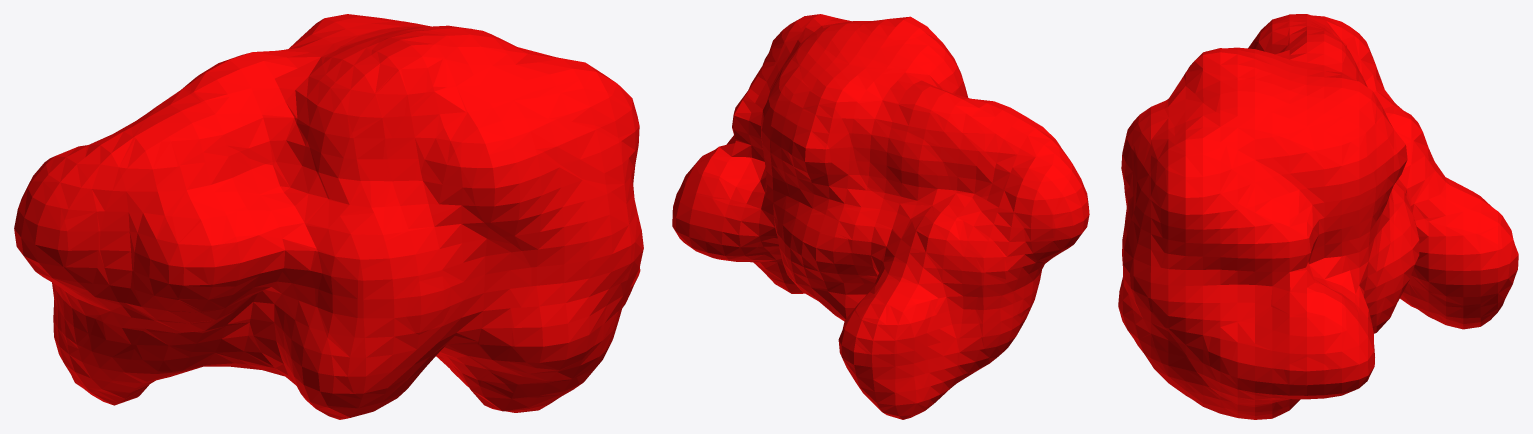
The model's file is nanE_coarse.dae.
3 renders of one model, left to right at view 1: azimuth 30°, elevation 25°; view 2: azimuth 150°, elevation 25°; view 3: azimuth 270°, elevation 25°, orthographic. The views are drawn at different scales.
Visible parts, largest first — view 1: nanE; view 2: nanE; view 3: nanE.
Part boxes in pixels (x1,y1,x2,y2): nanE: (14, 14, 643, 419); nanE: (672, 14, 1089, 419); nanE: (1118, 14, 1518, 419).
Size of the model in its own units: 64.8 by 44.33 by 48.2.
